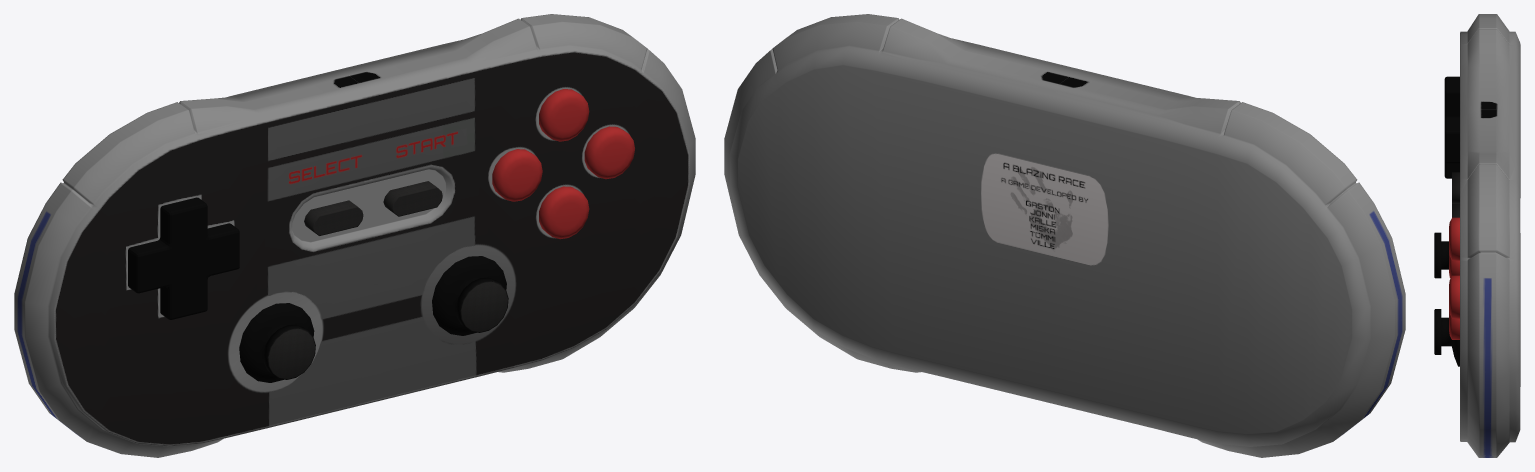
File: Joystick.fbx
3 views of the same model, side by side, from view 1: azimuth 30°, elevation 25°; view 2: azimuth 150°, elevation 25°; view 3: azimuth 270°, elevation 25° (orthographic). The views are drawn at different scales.
Visible parts, largest first — view 1: Joystick; view 2: Joystick; view 3: Joystick.
Boxes of the visible parts, x1,y1,x2,y2 form: Joystick: (14, 14, 695, 457); Joystick: (724, 14, 1405, 457); Joystick: (1434, 14, 1520, 457).
Bounding box in the file's own units: 14.56 × 7.1 × 1.99.
